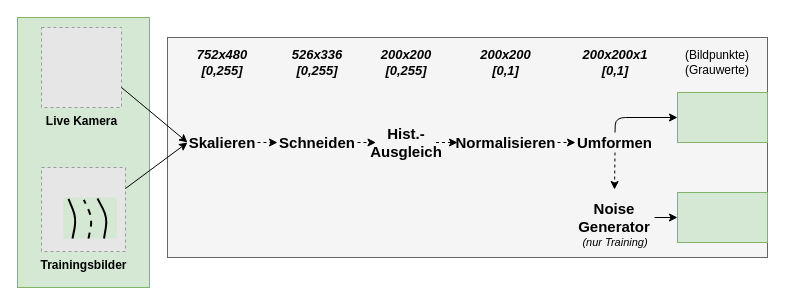
Some shapes in this 785 by 305 pixel diagram are drawn without their labels. Grey dashed boxes stand in for pictures. The shapes that lost their labels are listed below. From the top down, each one's centre as x and y in pixels, then its label:
(722,117): Lenkwinkel bestimmen
(722,217): Training
